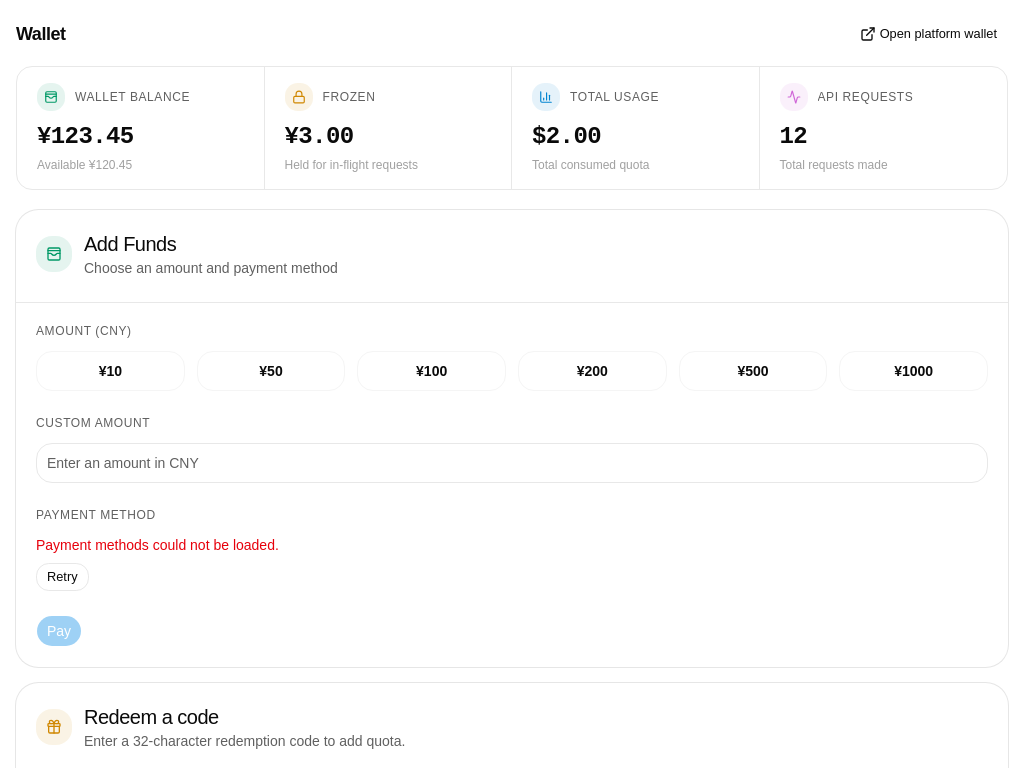
Test: top-up › lets a failed method list be retried
Expected: the text "Payment methods could not be loaded." is shown, [36, 537, 279, 553]
Click the button "Retry": coordinates (62, 577) [36, 563, 89, 591]
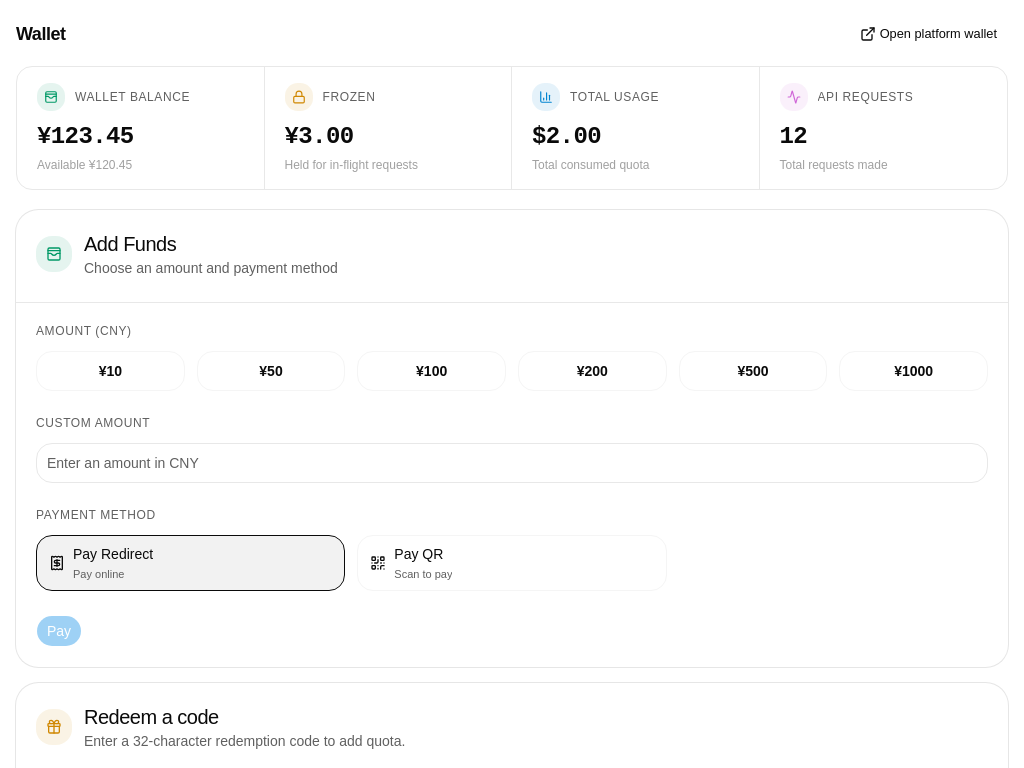
Expected: the radio button labelled "Pay QR Scan to pay" is shown, [357, 535, 667, 591]
